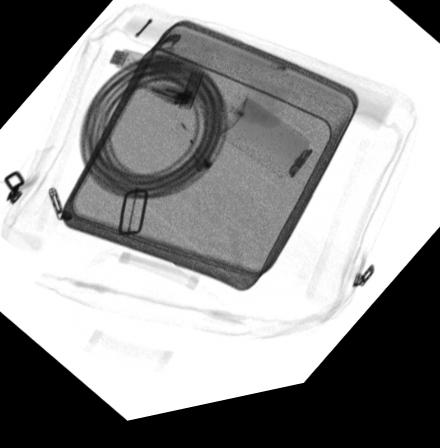Lighter: (106, 50, 166, 87)
Sprayer: (221, 108, 332, 206)
